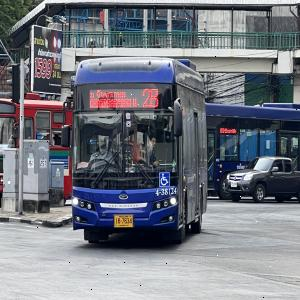Bus Line Number: (142, 86, 162, 109)
Bus Side Number: (155, 185, 177, 196)
Destination Sign: (88, 90, 141, 110)
TSB-Bus: (71, 58, 208, 245), (207, 104, 300, 201)
